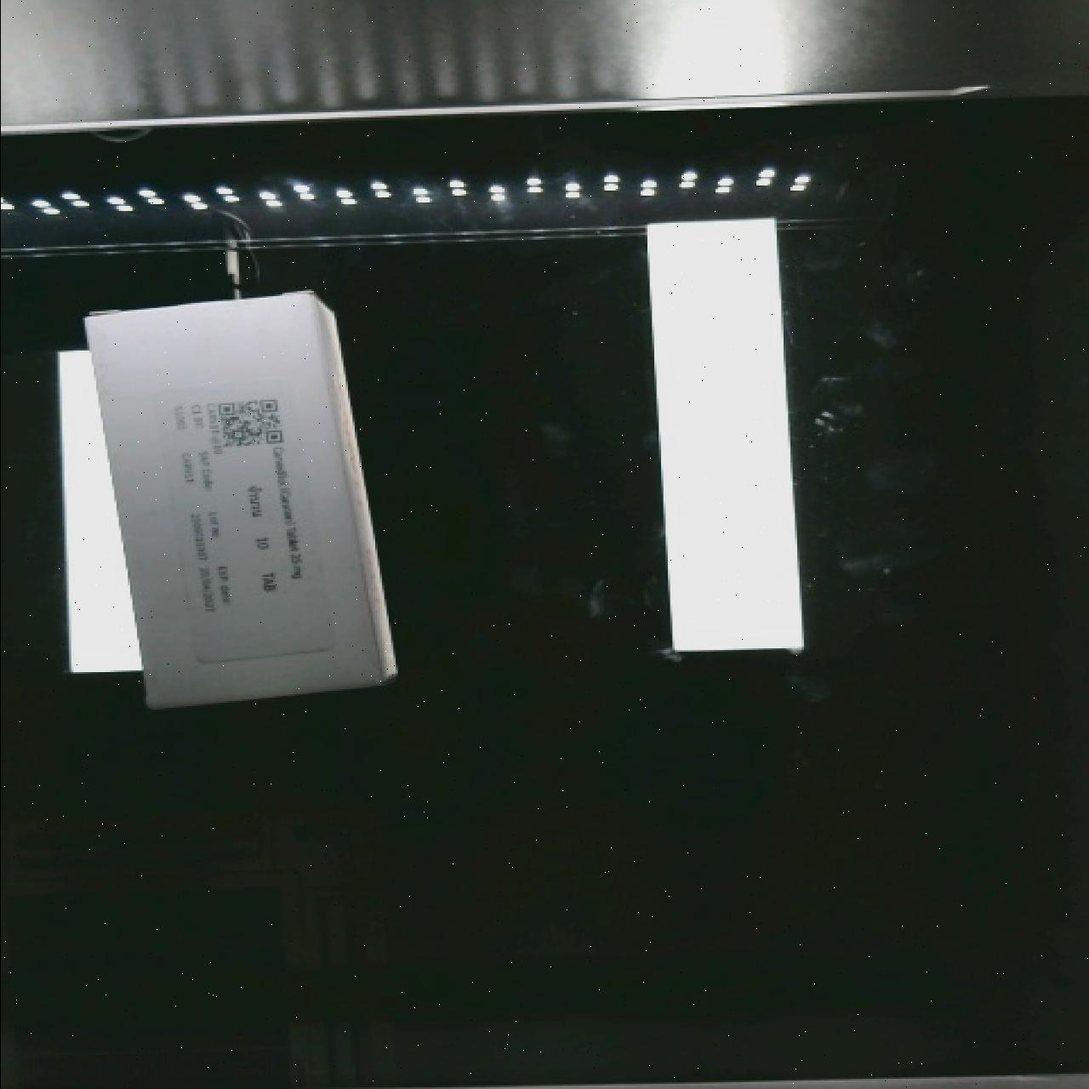qr_code: (204, 384, 296, 460)
